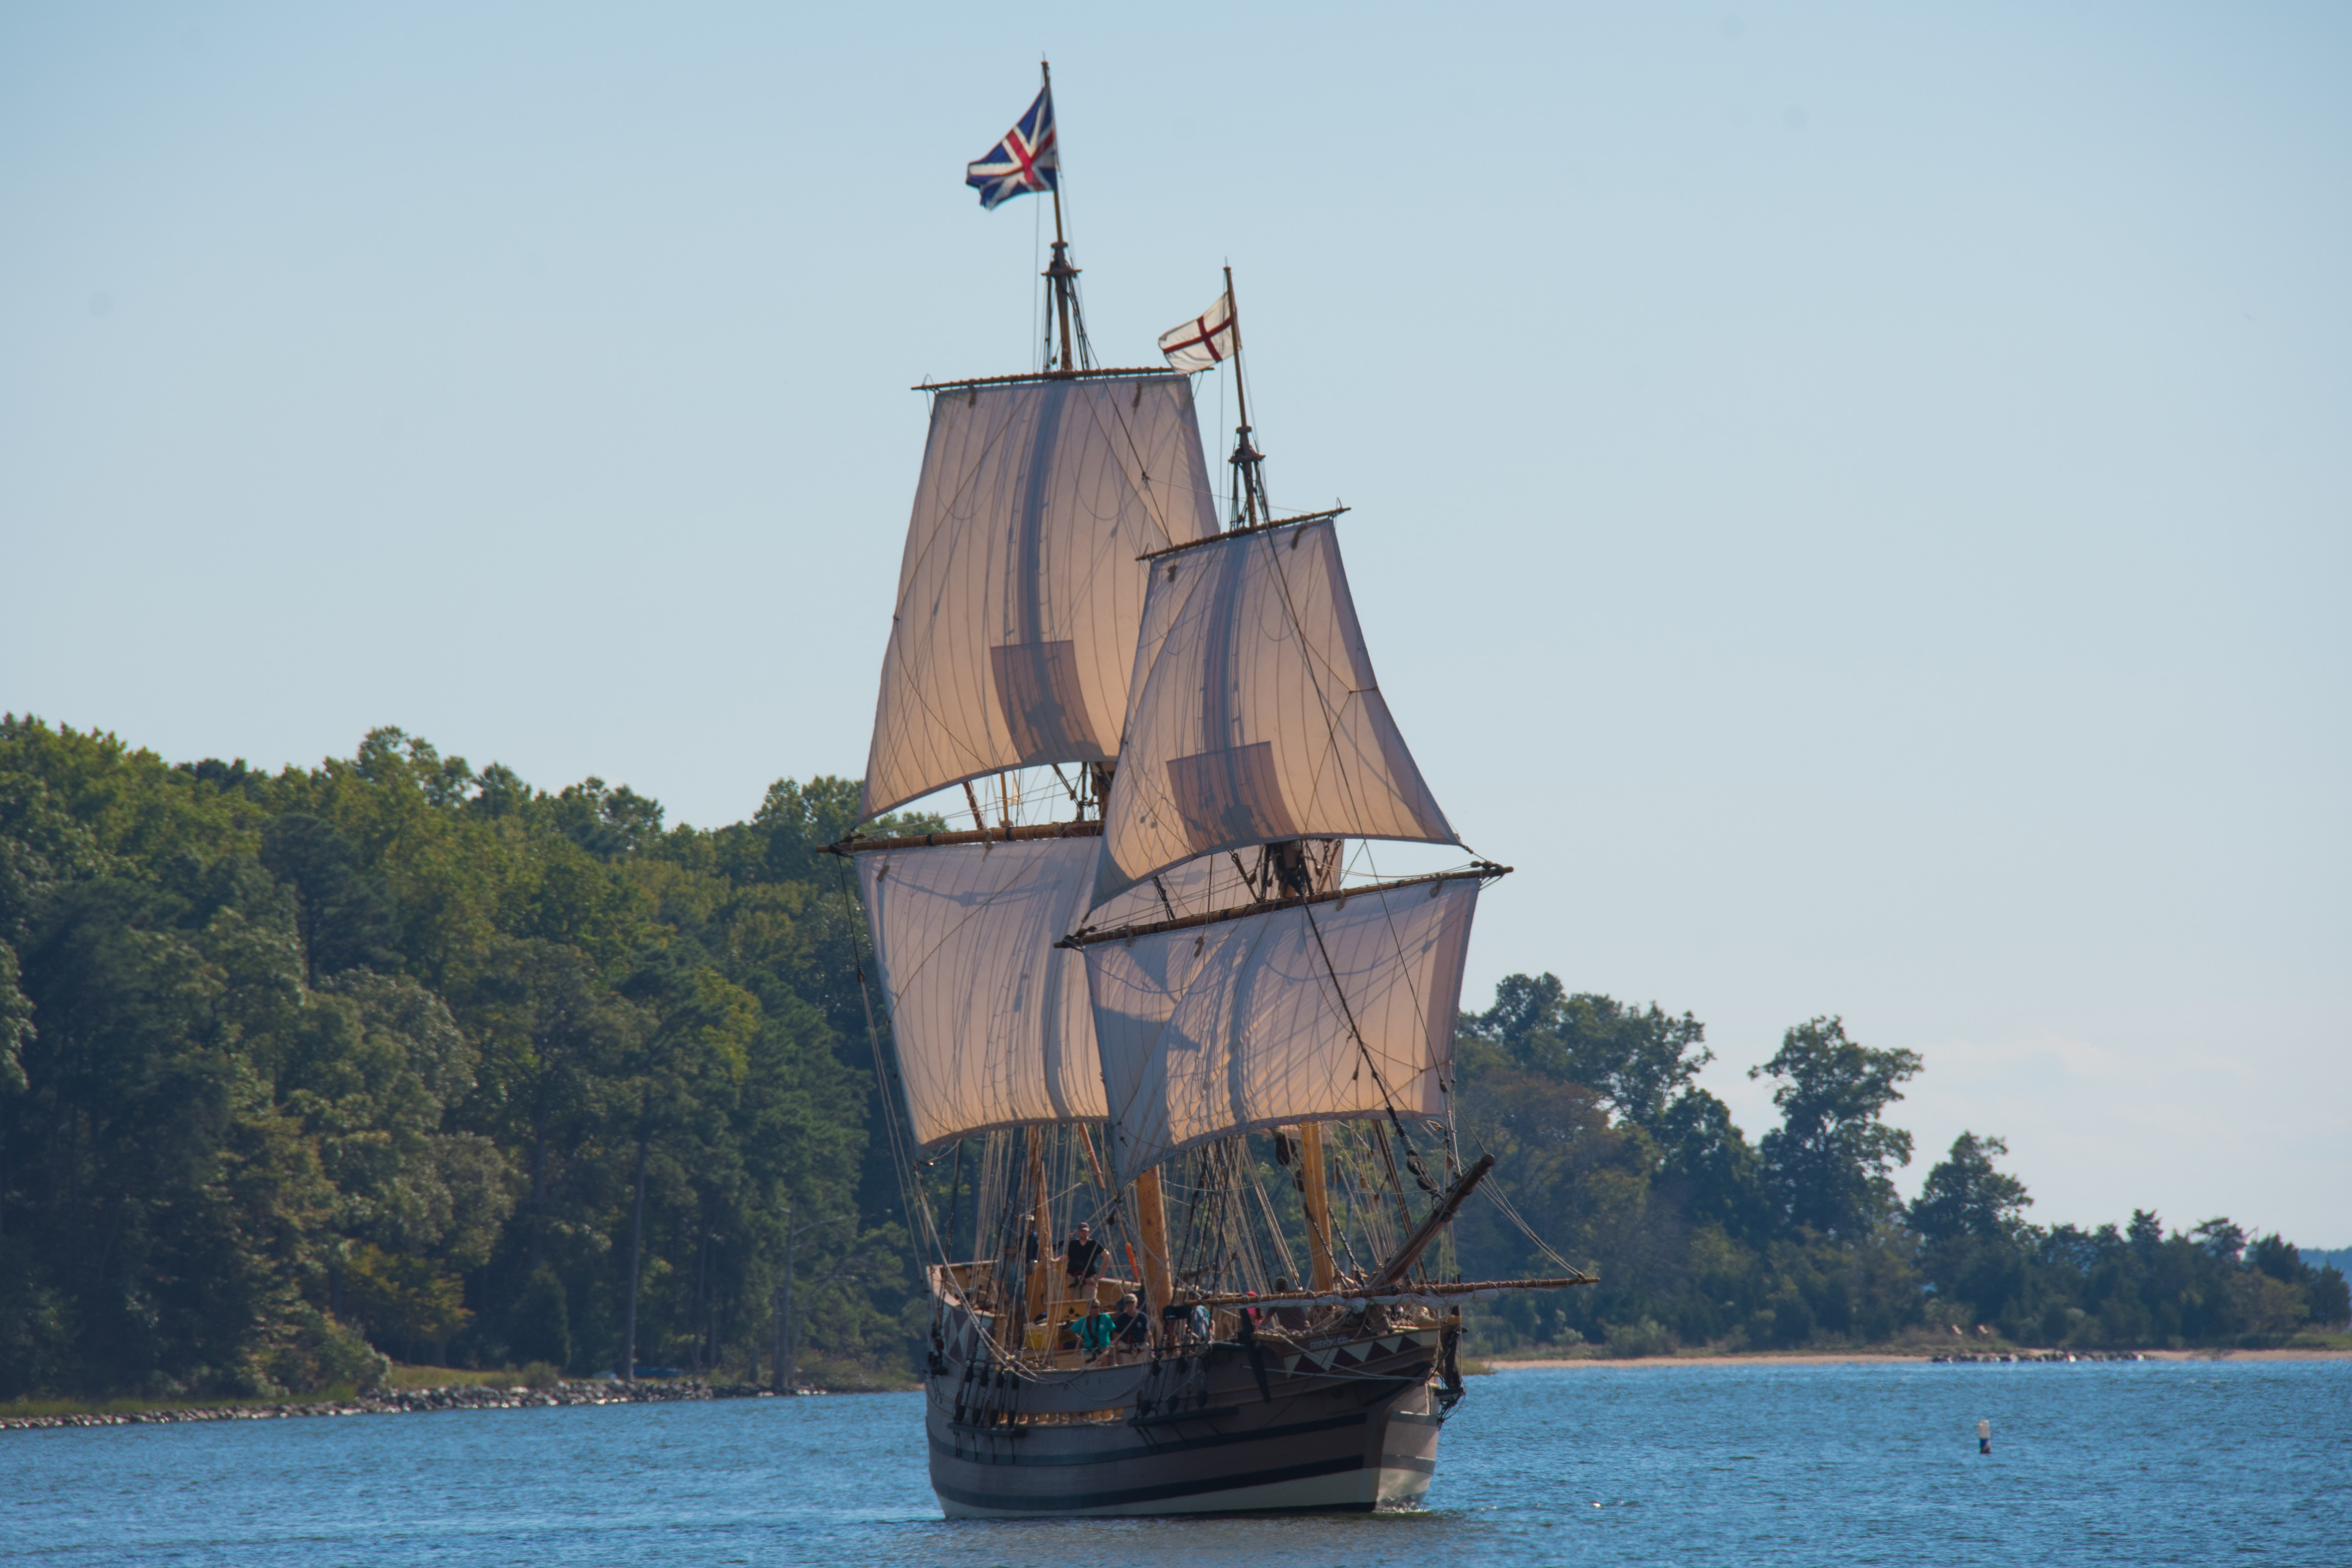Flag: (961, 88, 1064, 217), (1155, 289, 1241, 387)
